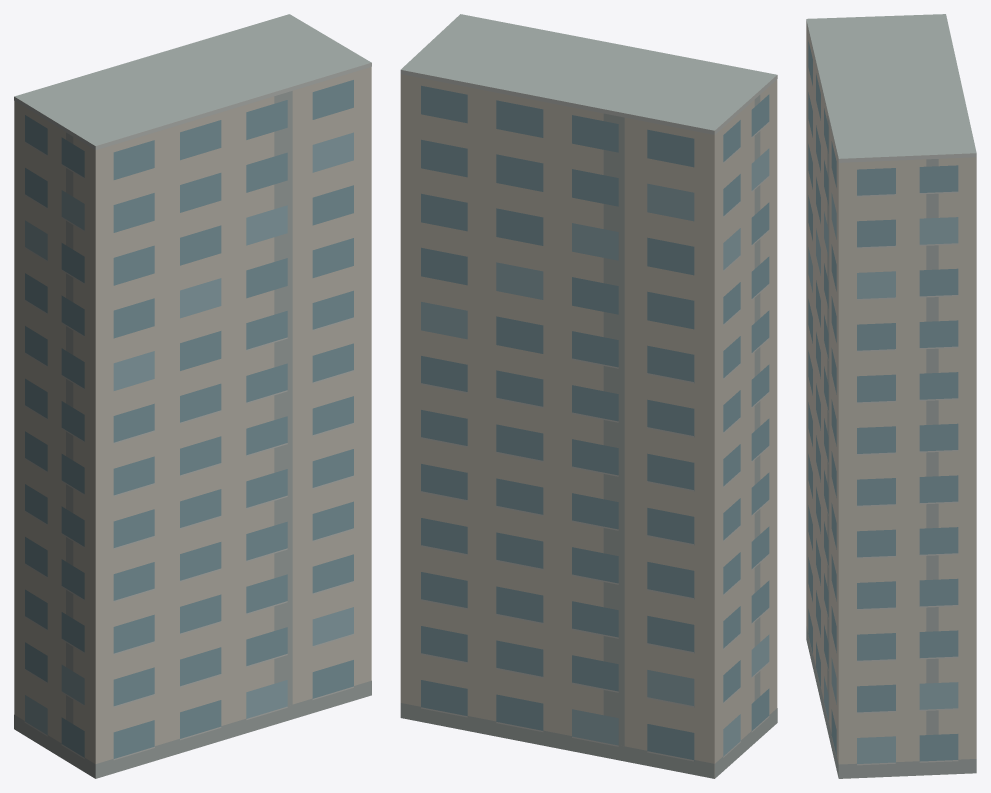
The model's file is residential-781eacc7-f351-4e52-8a59-41ec7931e655.glb.
3 renders of one model, left to right at view 1: azimuth 30°, elevation 25°; view 2: azimuth 150°, elevation 25°; view 3: azimuth 270°, elevation 25°, orthographic. The views are drawn at different scales.
Parts seen in each view (by area): view 1: residential-781eacc7-f351-4e52-8a59-41ec7931e655.tmp; view 2: residential-781eacc7-f351-4e52-8a59-41ec7931e655.tmp; view 3: residential-781eacc7-f351-4e52-8a59-41ec7931e655.tmp.
Part boxes in pixels (x1=…): residential-781eacc7-f351-4e52-8a59-41ec7931e655.tmp: x1=14, y1=14, x2=371, y2=778; residential-781eacc7-f351-4e52-8a59-41ec7931e655.tmp: x1=400, y1=14, x2=777, y2=778; residential-781eacc7-f351-4e52-8a59-41ec7931e655.tmp: x1=806, y1=14, x2=976, y2=778.
Size of the model in its own units: 18.55 by 37 by 9.23.
